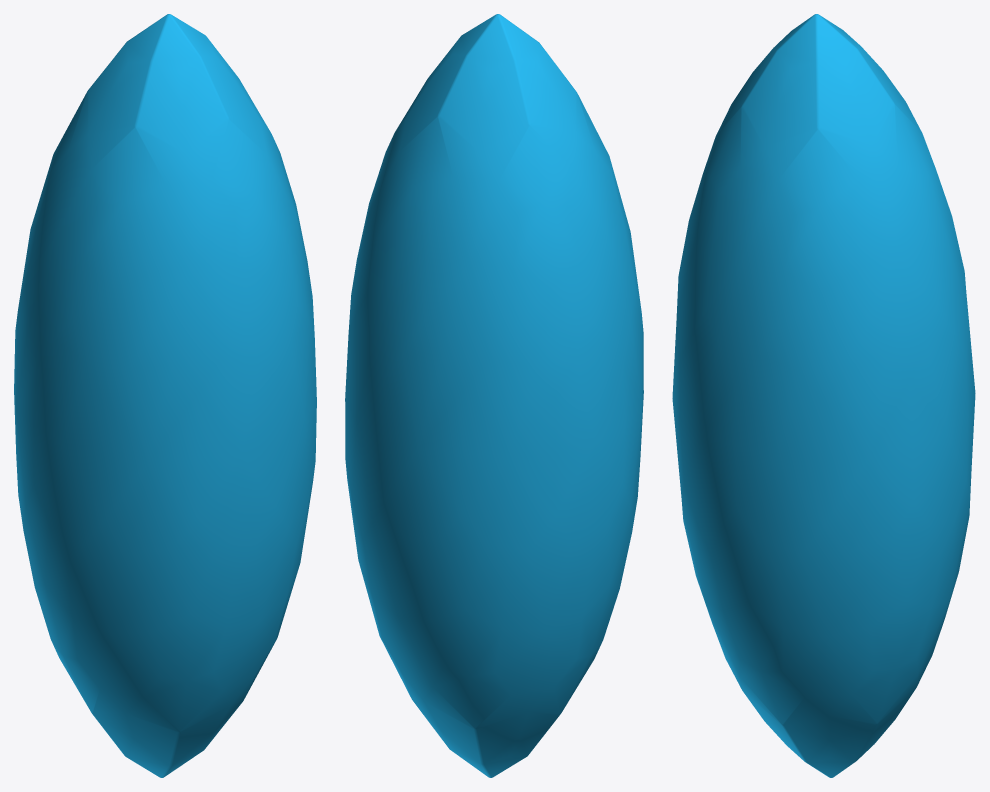
Rendered from Holocron_Cristal.obj.
3 views of the same model, side by side, from view 1: azimuth 30°, elevation 25°; view 2: azimuth 150°, elevation 25°; view 3: azimuth 270°, elevation 25° (orthographic).
Visible parts, largest first — view 1: Holocron_Cristal; view 2: Holocron_Cristal; view 3: Holocron_Cristal.
Part boxes in pixels (x1,y1,x2,y2): Holocron_Cristal: (14,14,316,777); Holocron_Cristal: (345,14,643,777); Holocron_Cristal: (672,14,975,777).
Size of the model in its own units: 0.7395 by 2.06 by 0.7408.
